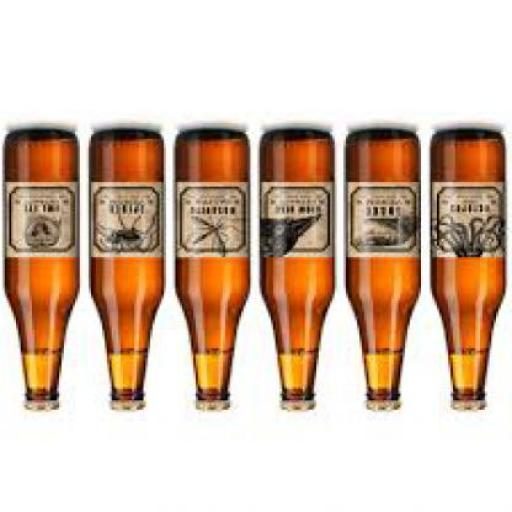glass: (91, 134, 169, 400), (175, 134, 253, 400), (432, 134, 510, 400), (346, 132, 423, 398), (7, 132, 82, 401), (262, 134, 336, 403)
metal: (30, 401, 64, 414), (114, 401, 146, 414), (371, 401, 403, 414), (198, 400, 232, 412), (287, 403, 321, 414), (455, 403, 489, 414)
